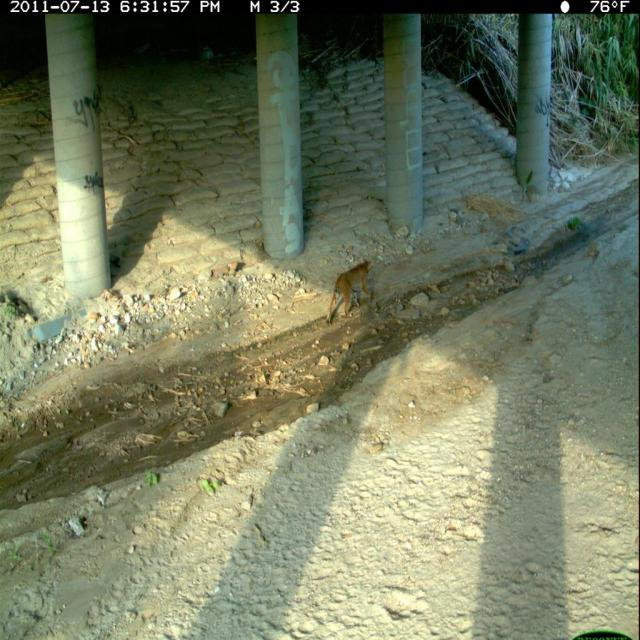bobcat: (325, 254, 380, 330)
